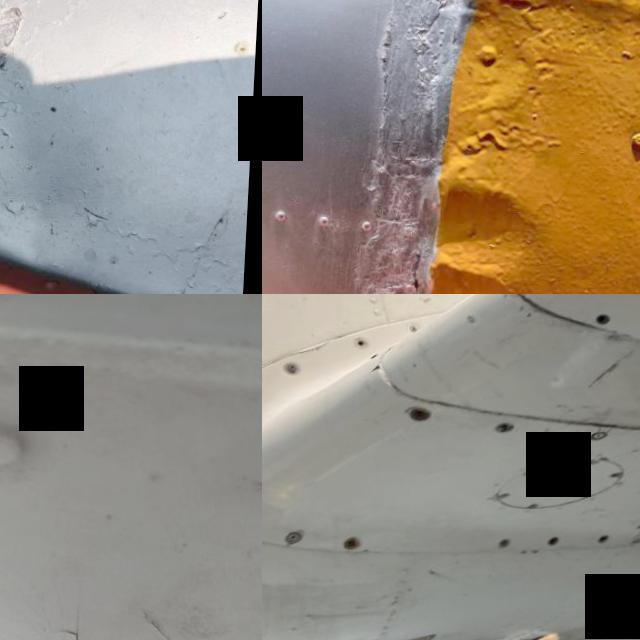Crack: (46, 552, 262, 640), (294, 336, 341, 354), (372, 360, 389, 374)
Dent: (404, 135, 571, 294)
Missing_Fastener: (409, 402, 437, 418), (347, 532, 364, 548), (598, 305, 614, 322), (499, 533, 516, 547), (548, 530, 568, 540), (356, 336, 372, 347), (601, 527, 615, 539)
